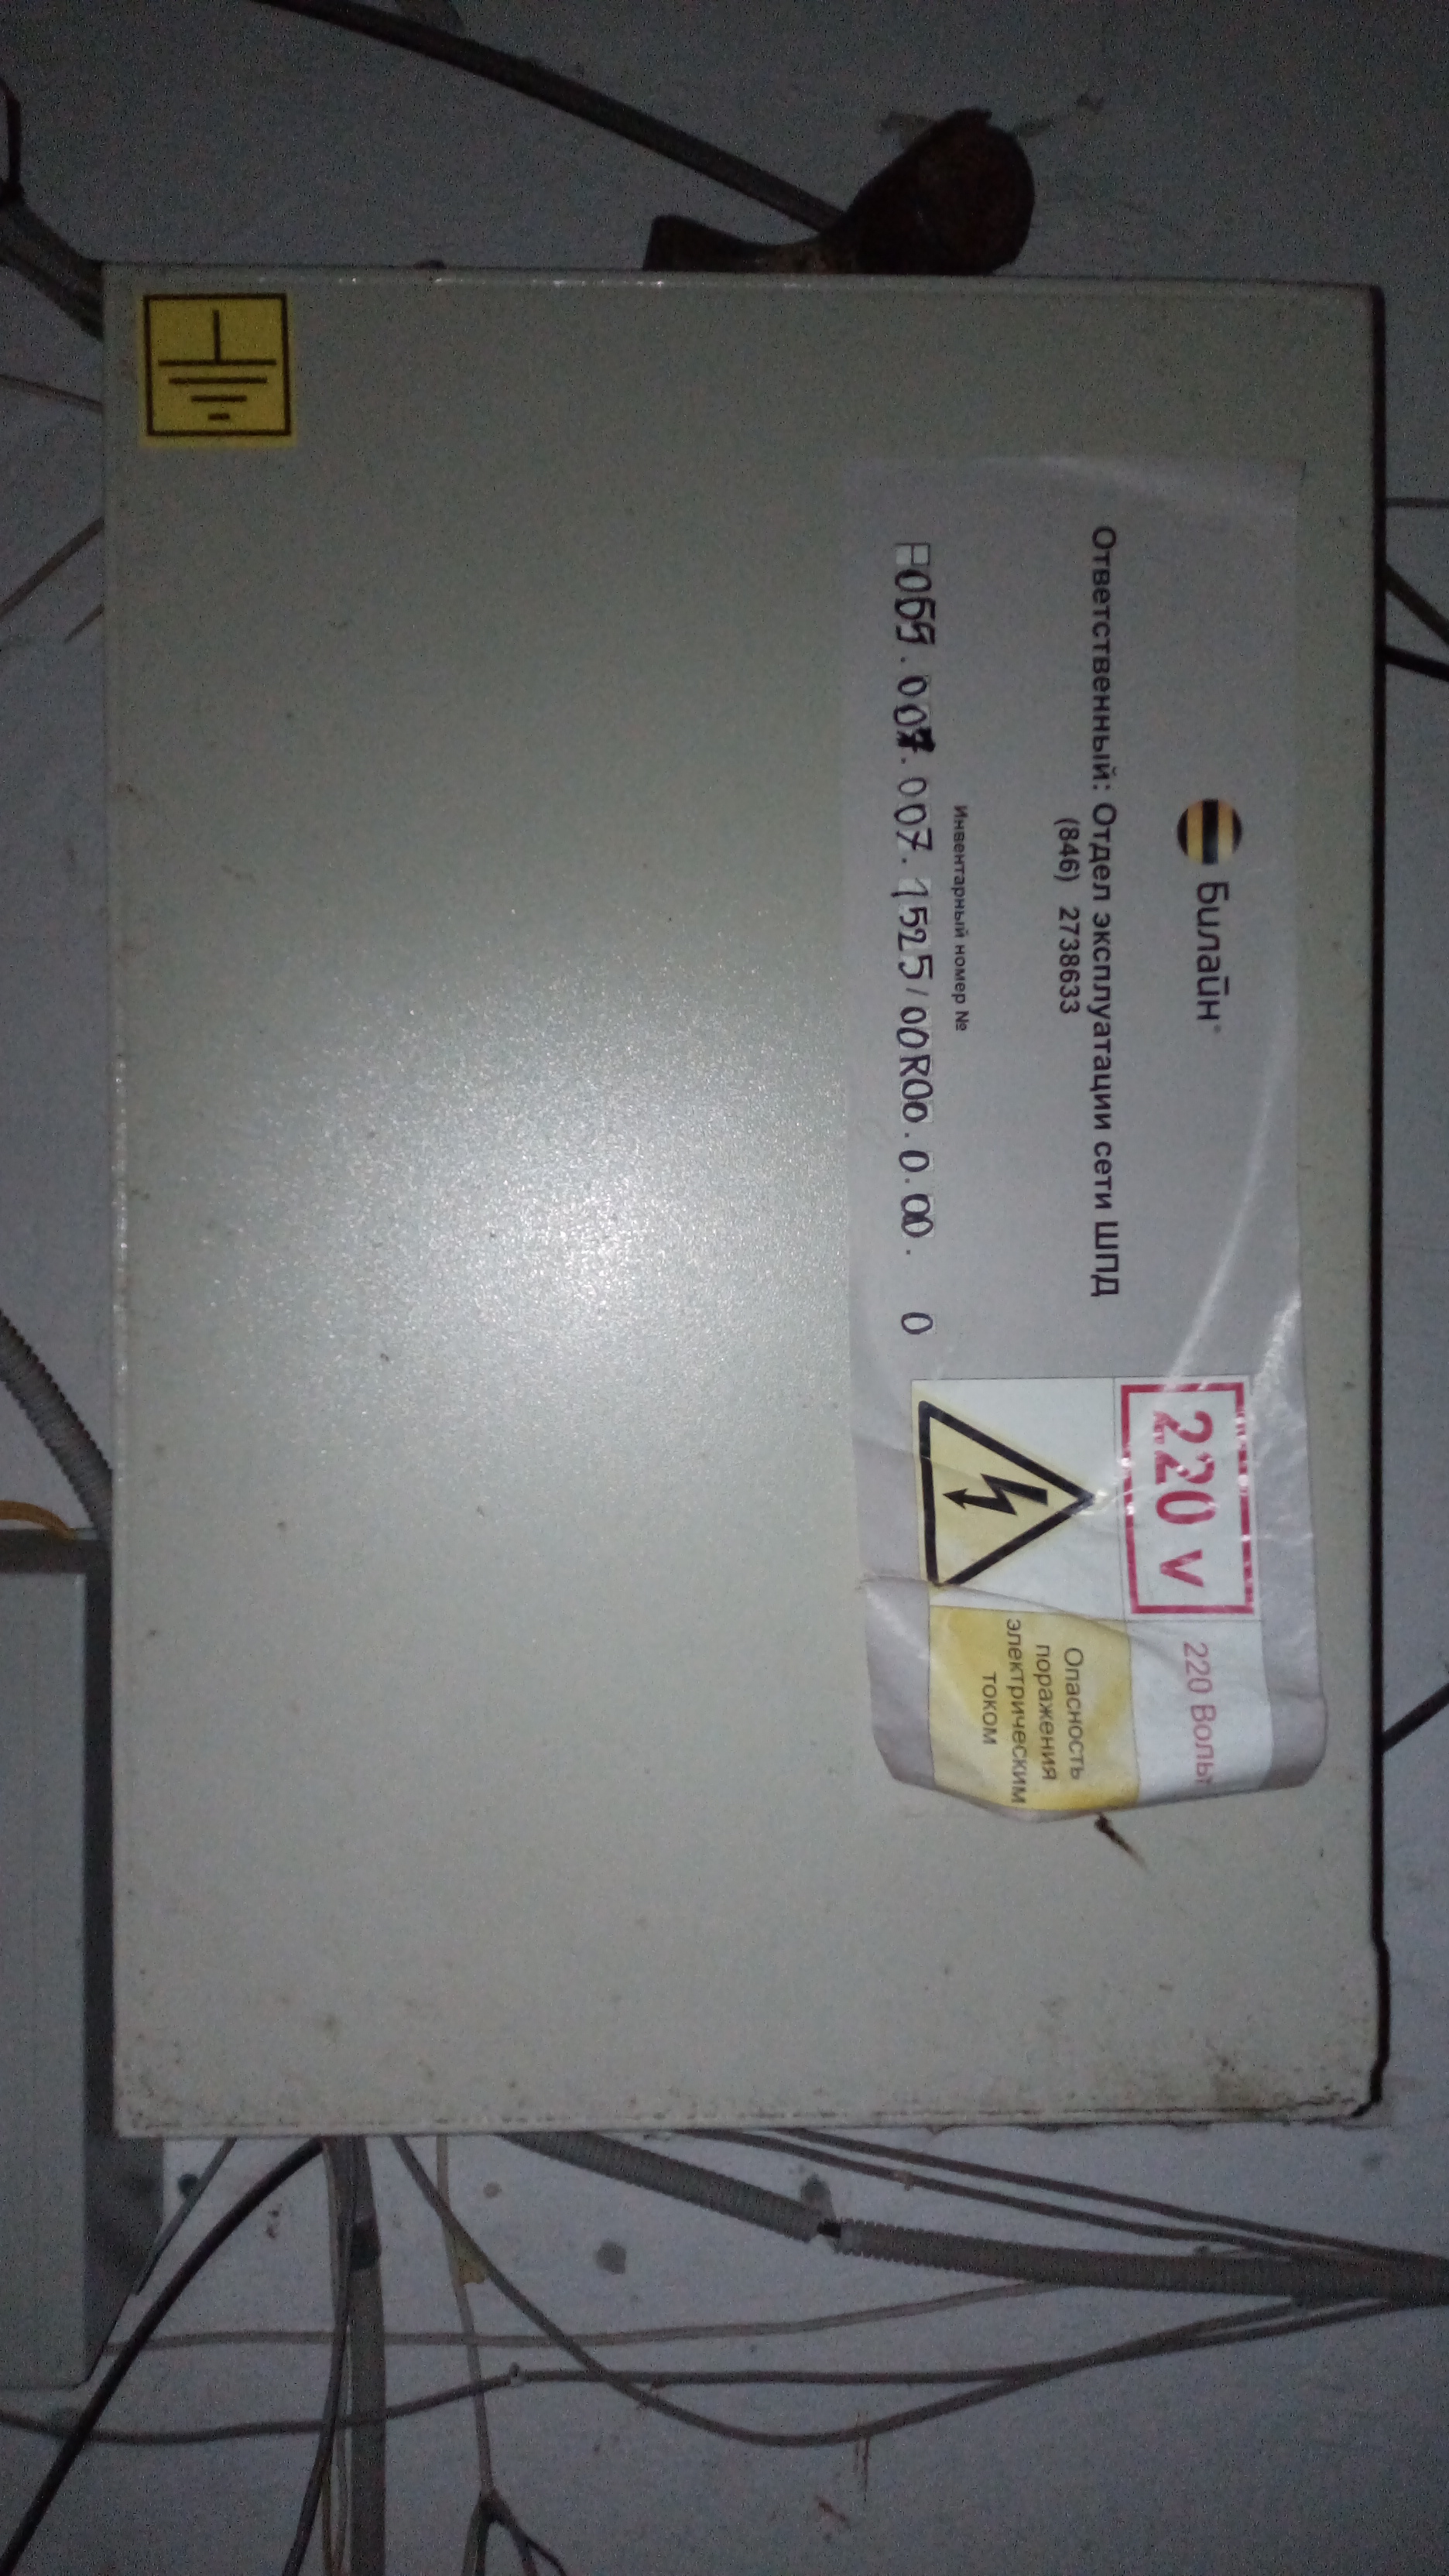sv-5: (69, 232, 1403, 2160)
